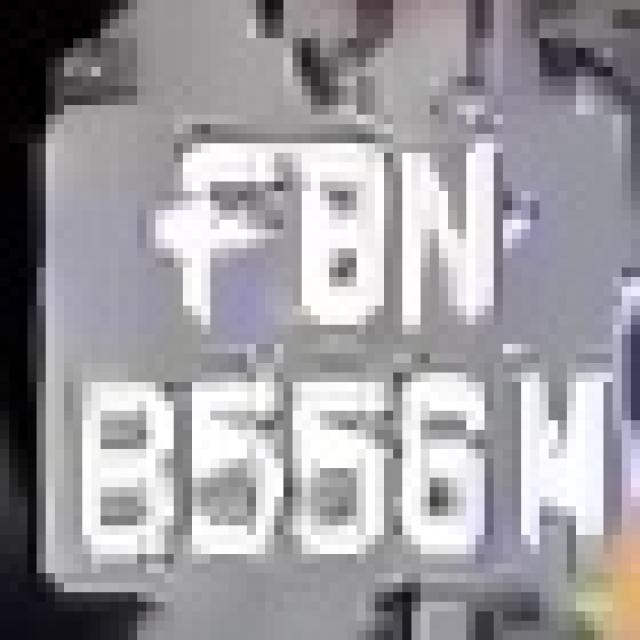5: (164, 334, 284, 564), (284, 325, 393, 573)
6: (384, 372, 503, 582)
8: (55, 334, 174, 583)
B: (256, 96, 384, 334)
F: (146, 124, 265, 344)
M: (484, 353, 604, 592)
N: (366, 105, 512, 344)
